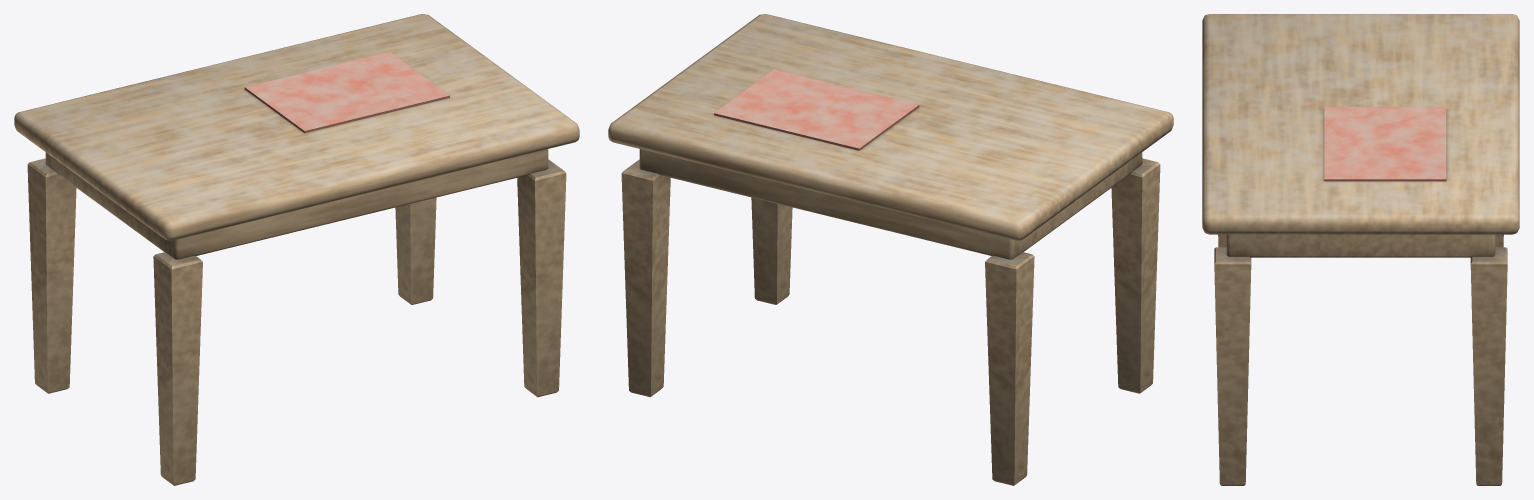
Rendered from kitchen_table.fbx.
3 views of the same model, side by side, from view 1: azimuth 30°, elevation 25°; view 2: azimuth 150°, elevation 25°; view 3: azimuth 270°, elevation 25° (orthographic).
Parts seen in each view (by area): view 1: Body; view 2: Body; view 3: Body.
Part boxes in pixels (<box>): Body: <box>14,14,579,485</box>; Body: <box>608,14,1173,485</box>; Body: <box>1202,14,1519,485</box>.
Bounding box in the file's own units: 4 × 2.52 × 2.6.
1 material, 1 textured.
